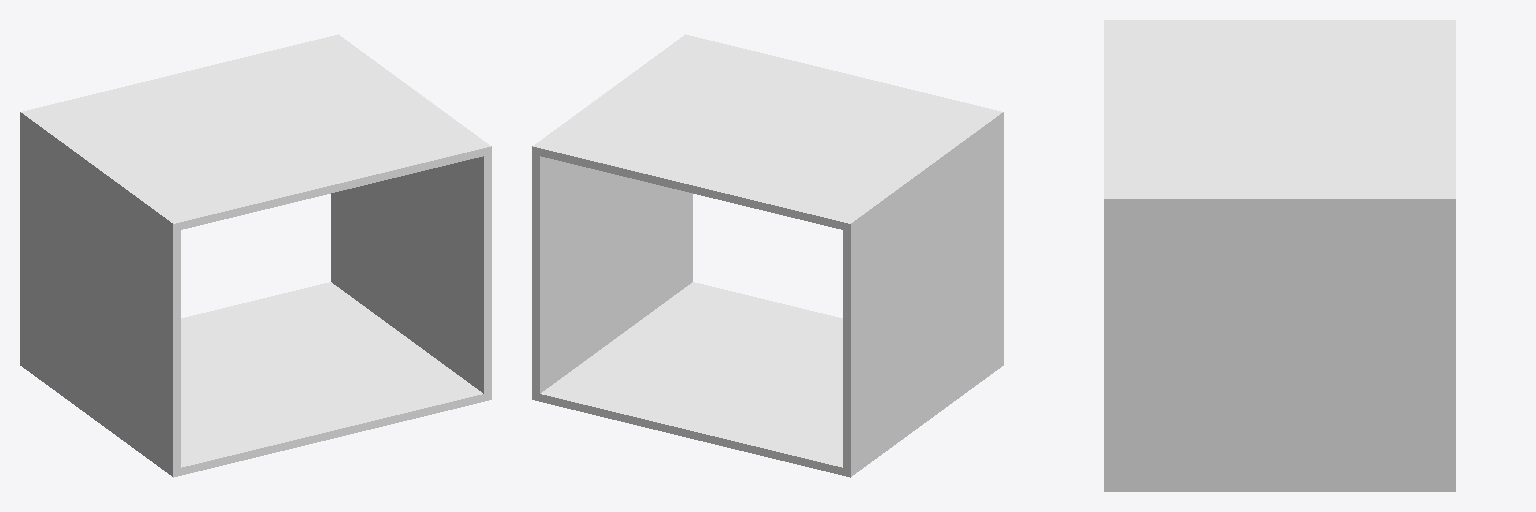
robot.urdf — kong_zhi_shi:
<robot
  name="kong_zhi_shi">
  <link
    name="kong_zhi_shi">
    <inertial>
      <origin
        xyz="4.4409E-16 -1.75 -1.12644694404054E-15"
        rpy="0 0 0" />
      <mass
        value="5040" />
      <inertia
        ixx="13785.8"
        ixy="-3.56559226588615E-12"
        ixz="-1.00614417260688E-11"
        iyy="21789.6"
        iyz="-2.77200279332098E-12"
        izz="18293.8" />
    </inertial>
    <visual>
      <origin
        xyz="0 0 0"
        rpy="1.5707963267949 0 0" />
      <geometry>
        <mesh
          filename="package://kong_zhi_shi/meshes/kong_zhi_shi.STL" />
      </geometry>
      <material
        name="">
        <color
          rgba="1 1 1 1" />
      </material>
    </visual>
    <collision>
      <origin
        xyz="0 0 0"
        rpy="1.5707963267949 0 0" />
      <geometry>
        <mesh
          filename="package://kong_zhi_shi/meshes/kong_zhi_shi.STL" />
      </geometry>
    </collision>
  </link>
</robot>

--- Render facts (derived) ---
The picture shows the robot from 3 angles, left to right: view 1: azimuth 30°, elevation 25°; view 2: azimuth 150°, elevation 25°; view 3: azimuth 270°, elevation 25°; orthographic projection.
Model kong_zhi_shi with 1 links and 0 joints (none), rooted at kong_zhi_shi, posed every joint at zero.
Links seen in each view (by area): view 1: kong_zhi_shi; view 2: kong_zhi_shi; view 3: kong_zhi_shi.
Link boxes in pixels (bbox=[...]): kong_zhi_shi: bbox=[20, 34, 491, 477]; kong_zhi_shi: bbox=[532, 34, 1003, 477]; kong_zhi_shi: bbox=[1104, 20, 1455, 491].
Bounding box of the posed robot: 4.2 × 3.5 × 3.2 m (x, y, z).
Meshes: 1 distinct files referenced, 1 mesh visuals loaded (1 binary STL).
